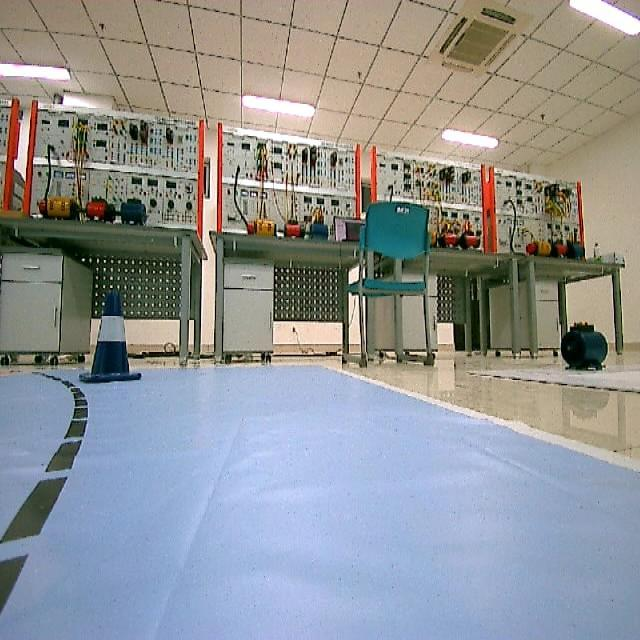obstacle: (74, 292, 150, 392)
